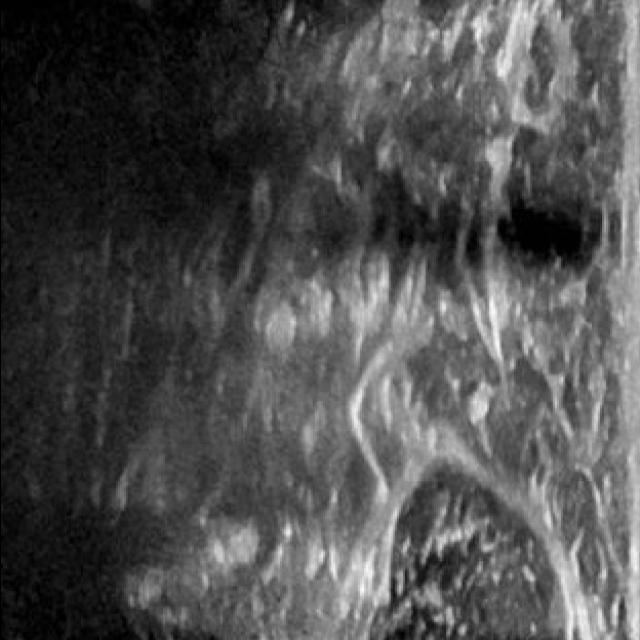Normal: (46, 40, 620, 592)
